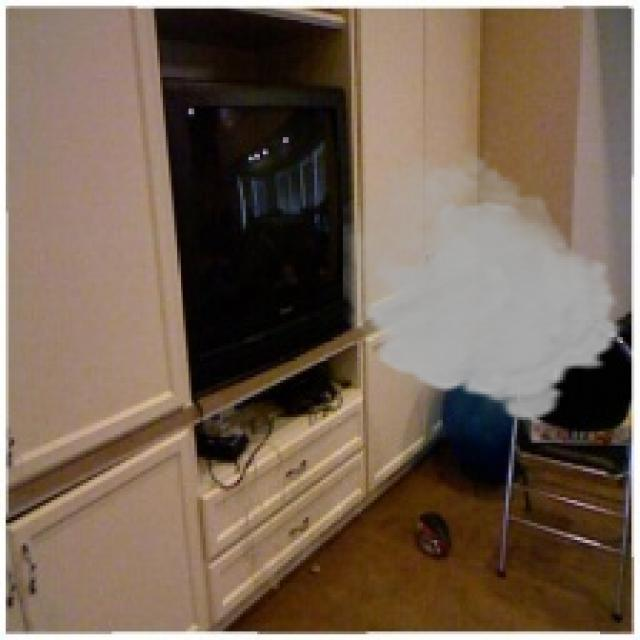Smoke: (343, 143, 626, 423)
